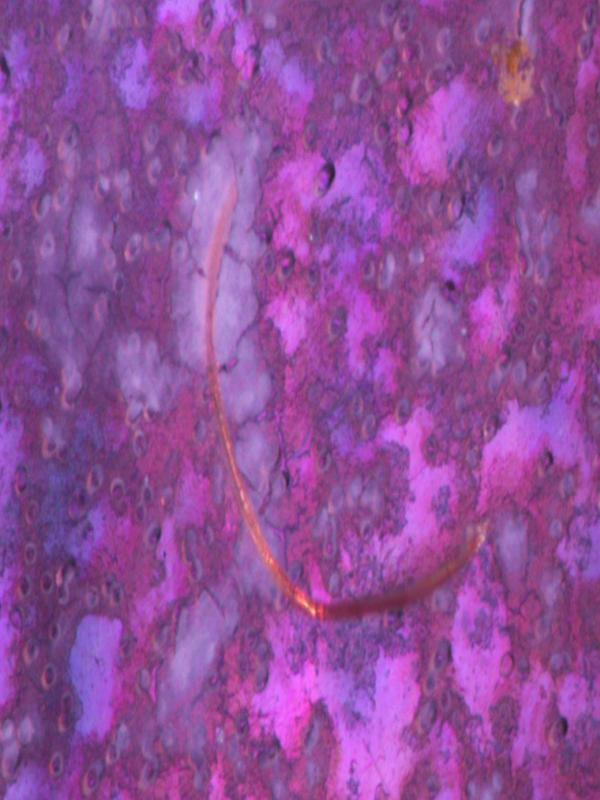microplastic: (1, 1, 598, 797), (200, 140, 492, 624)
